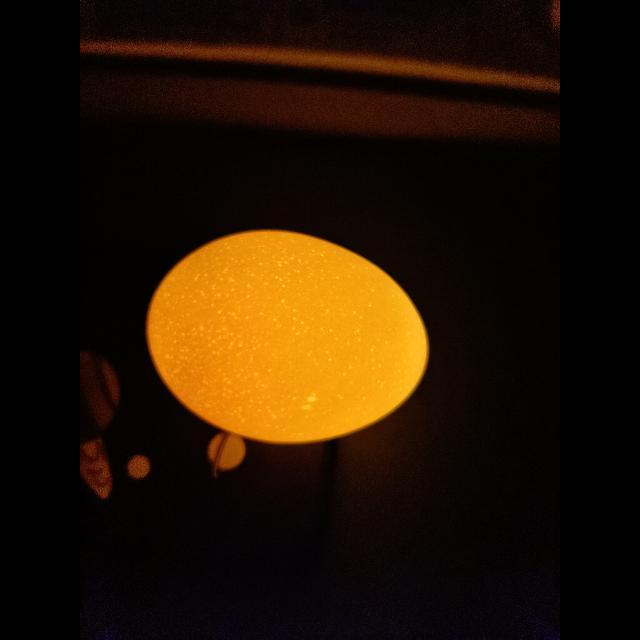AA - Premium: (146, 230, 429, 444)
